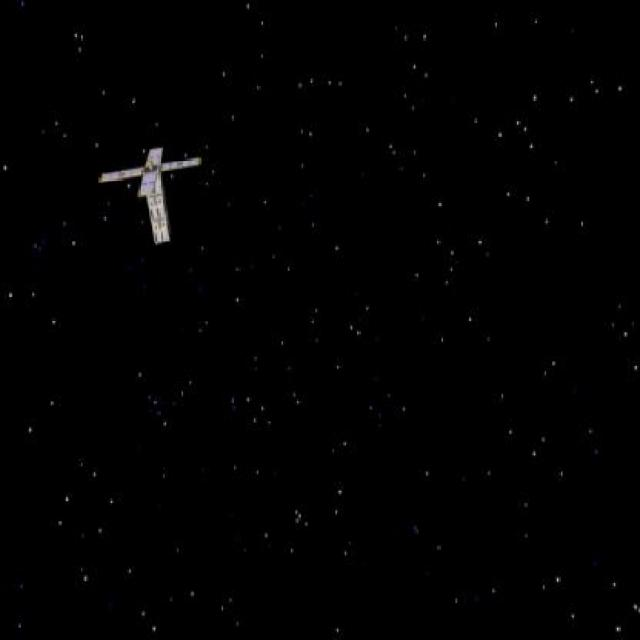satellite: (100, 127, 210, 265)
